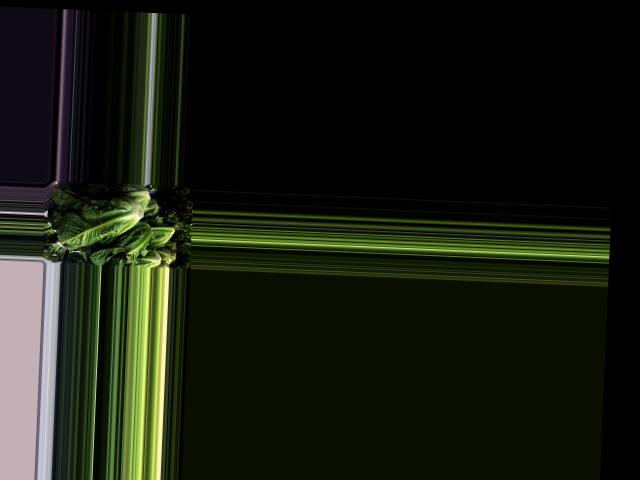lettuce: (87, 220, 154, 264)
